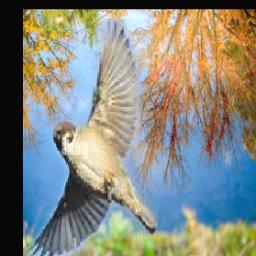Sparrow: (24, 20, 158, 256)
